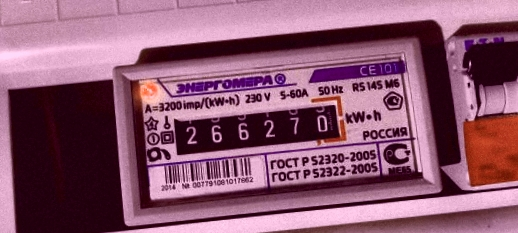0: (314, 111, 328, 133)
2: (183, 123, 198, 145), (261, 116, 275, 138)
6: (209, 122, 223, 143), (235, 120, 249, 140)
7: (286, 114, 301, 136)
screen: (162, 90, 354, 165)
